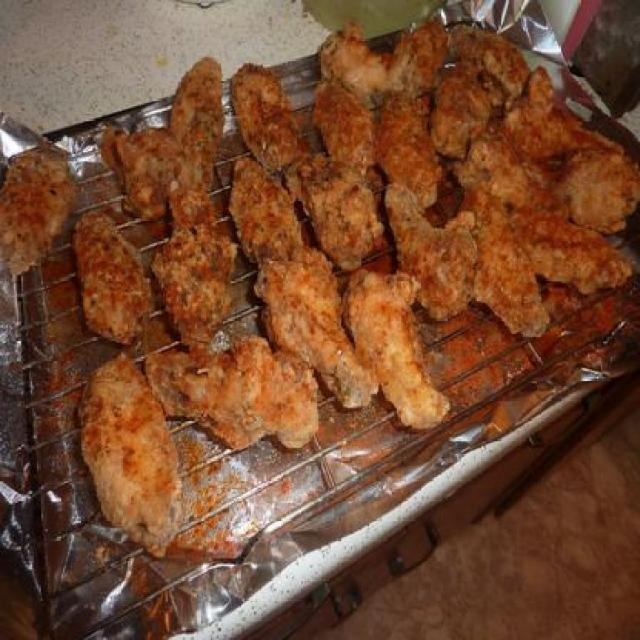Deep fried chicken wing: (9, 35, 622, 517)
